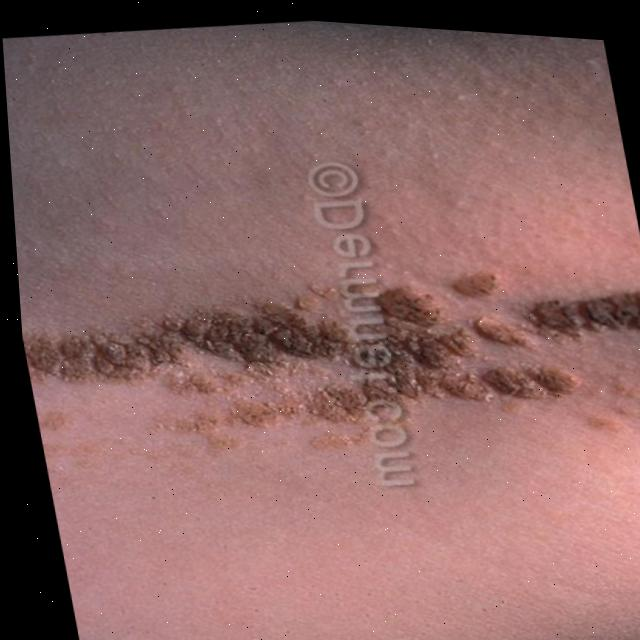Eczema: (15, 220, 640, 528)
